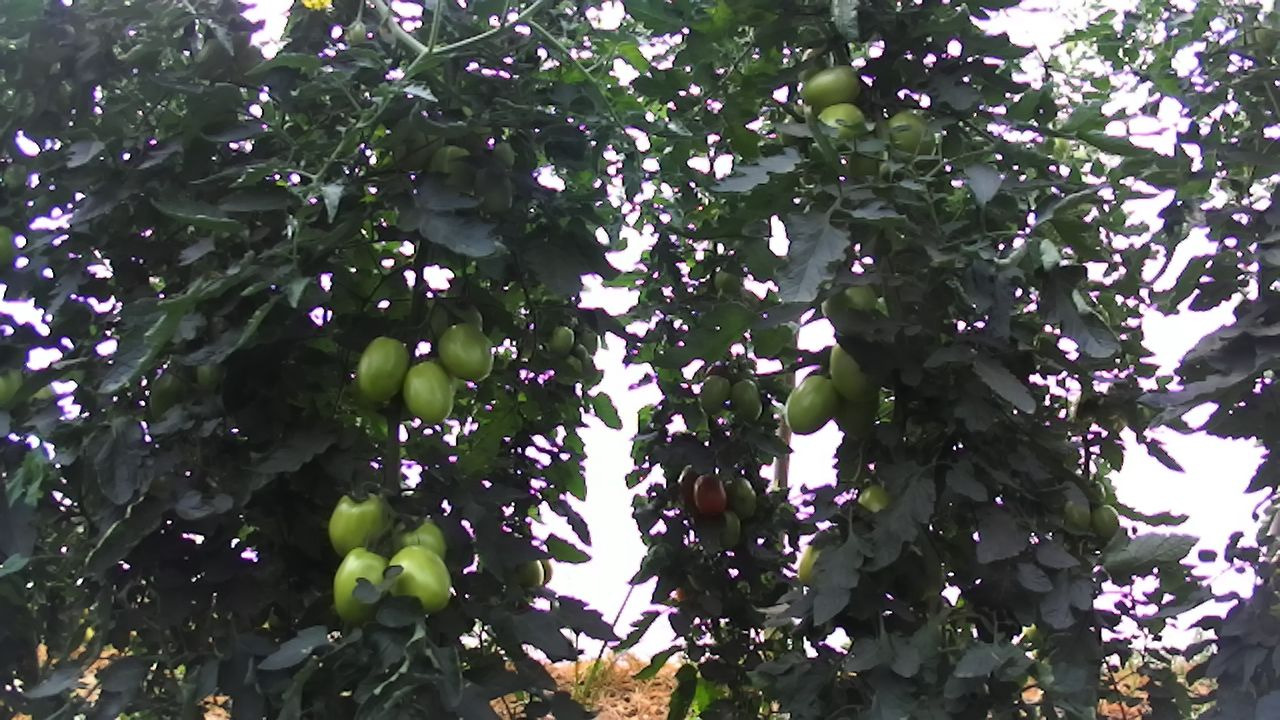tomato: (385, 542, 456, 616), (329, 543, 390, 627), (325, 486, 386, 560), (353, 331, 412, 406), (827, 334, 886, 408), (398, 356, 458, 428), (434, 318, 495, 385), (786, 371, 841, 436), (388, 511, 452, 562), (798, 61, 863, 110), (728, 375, 765, 424), (691, 470, 728, 519), (698, 372, 733, 418), (1088, 500, 1123, 542)
